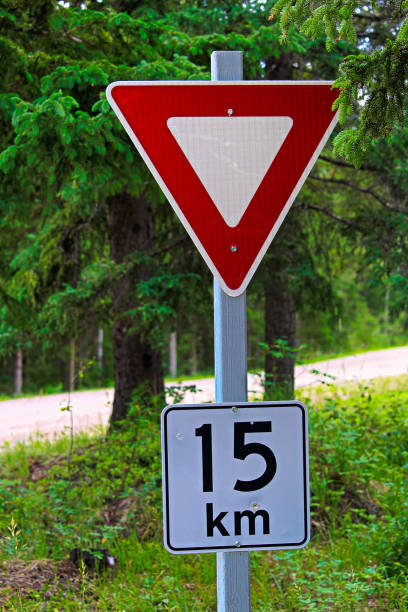sign_yield: (102, 78, 348, 299)
